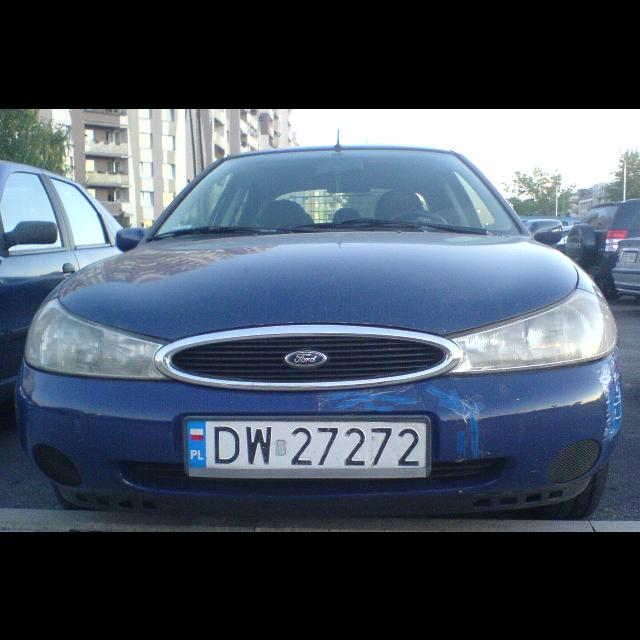pl_license_plate: (185, 416, 427, 468)
